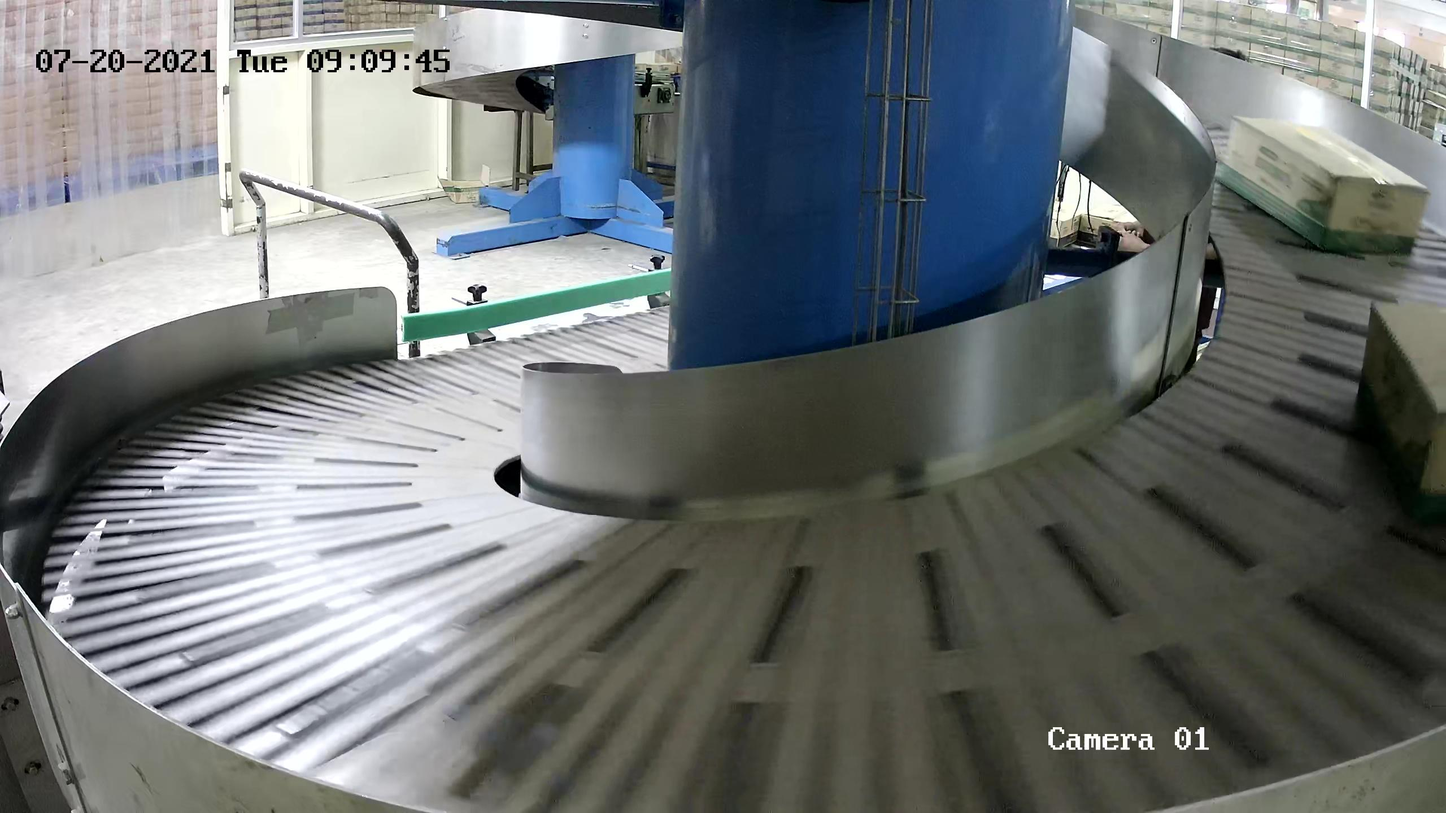Box: (1215, 112, 1433, 257), (1353, 297, 1446, 507)
